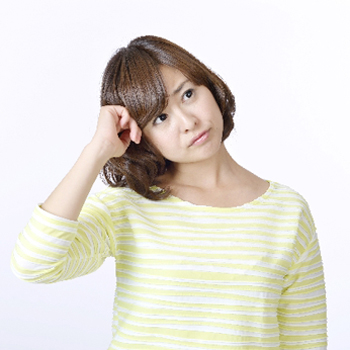face: (144, 64, 224, 164)
hand: (94, 104, 143, 157)
